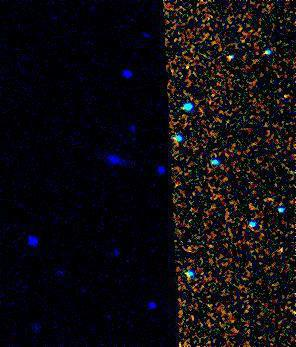star: (175, 53, 205, 83)
